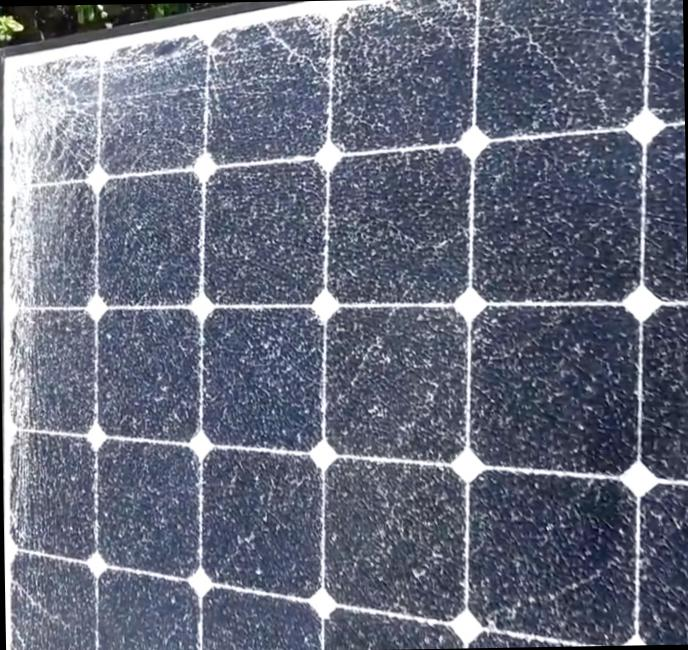Crack: (253, 1, 450, 140), (8, 54, 166, 195)
